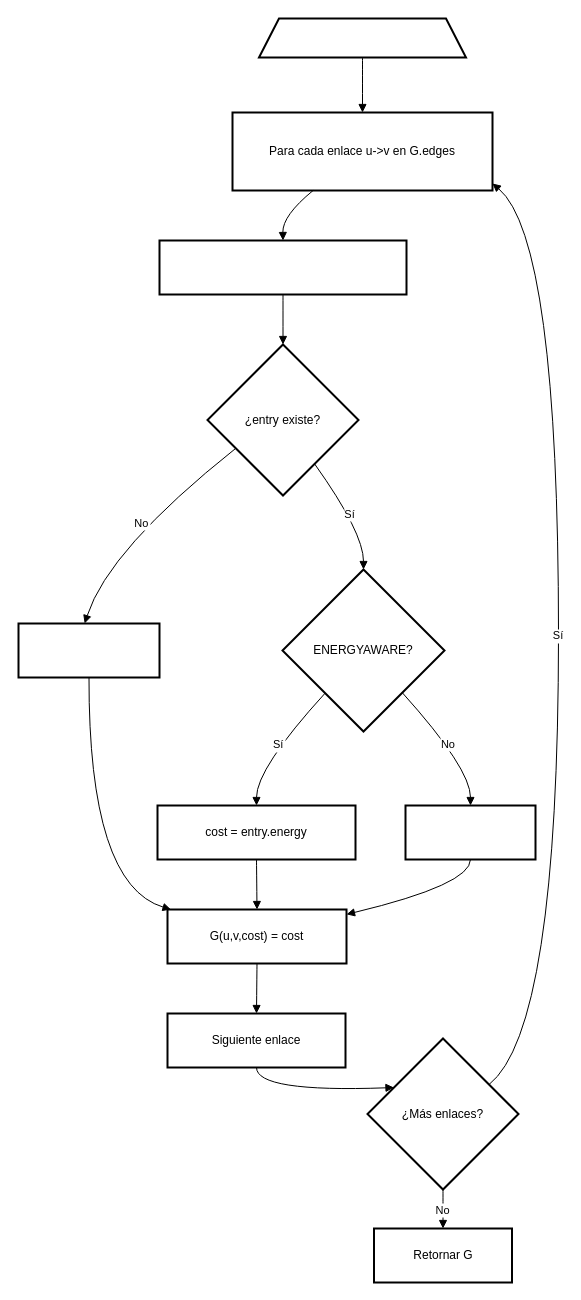
Some shapes in this 581 by 1300 pixel diagram are drawn without their labels. Each missing label, with the centre of its shape:
"assign_node_costs(G)" goes at (362,37).
"cost = 0.1" goes at (470,832).
"cost = 9999" goes at (88,650).
"entry = router_state.get(v)" goes at (282,267).
